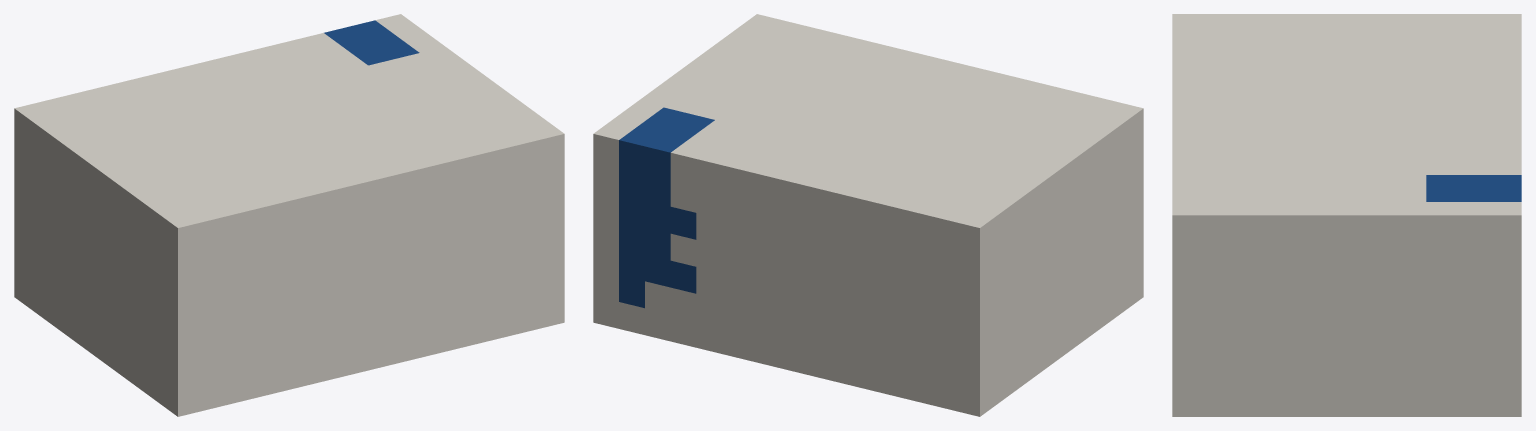
Rendered from parking_garage.glb.
3 views of the same model, side by side, from view 1: azimuth 30°, elevation 25°; view 2: azimuth 150°, elevation 25°; view 3: azimuth 270°, elevation 25° (orthographic). The views are drawn at different scales.
Parts seen in each view (by area): view 1: parking_garage_concrete, parking_garage_garda_blue; view 2: parking_garage_concrete, parking_garage_garda_blue; view 3: parking_garage_concrete, parking_garage_garda_blue.
Boxes of the visible parts, x1,y1,x2,y2 form: parking_garage_concrete: (14, 14, 564, 416); parking_garage_garda_blue: (324, 20, 419, 65); parking_garage_concrete: (593, 14, 1143, 416); parking_garage_garda_blue: (619, 107, 714, 308); parking_garage_concrete: (1172, 14, 1521, 416); parking_garage_garda_blue: (1426, 175, 1521, 201).
Bounding box in the file's own units: 33.28 × 15.53 × 24.41.
